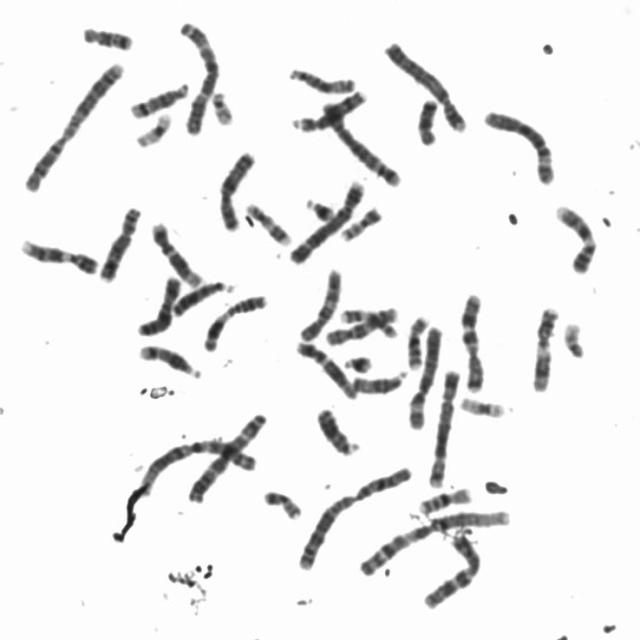A1: (355, 504, 513, 579), (130, 434, 259, 504)
A2: (18, 56, 128, 195), (294, 461, 416, 573)
A3: (184, 408, 269, 503), (174, 16, 224, 138)
B4: (381, 35, 470, 135), (284, 174, 367, 266)
B5: (317, 94, 404, 189), (424, 364, 463, 490)
C10: (296, 264, 344, 344), (321, 302, 401, 347)
C11: (198, 290, 270, 353), (526, 300, 561, 394)
C12: (291, 336, 360, 401), (146, 216, 204, 289)
C6: (478, 105, 558, 186), (402, 320, 445, 431)
C7: (418, 528, 484, 611), (456, 286, 486, 394)
C8: (287, 85, 370, 134), (95, 202, 144, 284)
C9: (550, 199, 600, 275), (17, 234, 102, 276)
D13: (167, 276, 235, 318), (312, 402, 363, 458)
D14: (135, 340, 205, 381), (126, 77, 192, 119)
D15: (284, 63, 358, 95), (349, 364, 409, 395)
E16: (414, 482, 474, 517), (403, 310, 431, 370)
E17: (240, 197, 294, 248), (338, 310, 397, 340)
E18: (77, 21, 136, 52), (412, 94, 440, 147)
F19: (131, 108, 174, 150), (456, 391, 507, 420)
F20: (336, 201, 386, 243), (258, 484, 304, 520)
G21: (302, 193, 338, 223), (340, 350, 375, 374)
G22: (206, 86, 237, 127), (559, 318, 588, 360)
X: (214, 146, 258, 233), (132, 270, 182, 338)
